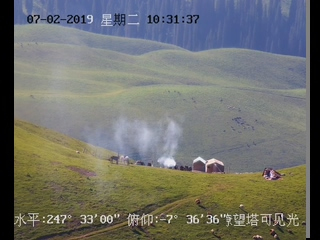smoke: (101, 114, 184, 168)
